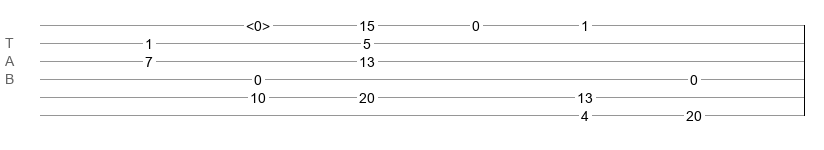0: (254, 72, 262, 82), (472, 18, 480, 28), (690, 72, 698, 82)
1: (145, 36, 153, 46), (581, 18, 589, 28)
10: (250, 90, 266, 100)
13: (359, 54, 375, 64), (577, 90, 593, 100)
15: (359, 18, 375, 28)
20: (359, 90, 375, 100), (686, 108, 702, 118)
4: (581, 108, 589, 118)
5: (363, 36, 371, 46)
7: (145, 54, 153, 64)
harmonic: (246, 18, 270, 28)
